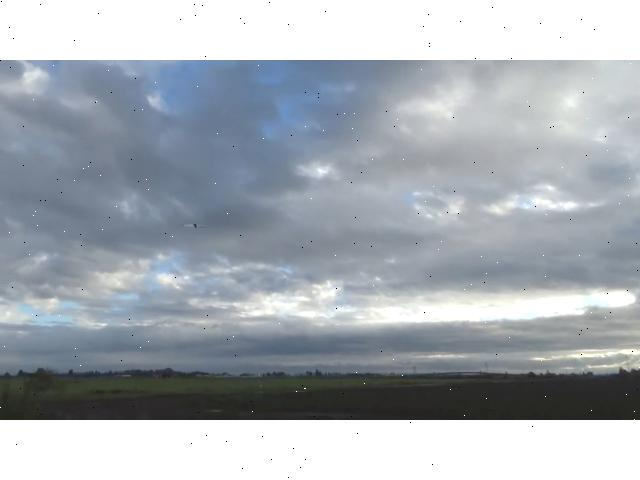Anti-Drone: (180, 223, 212, 230)
